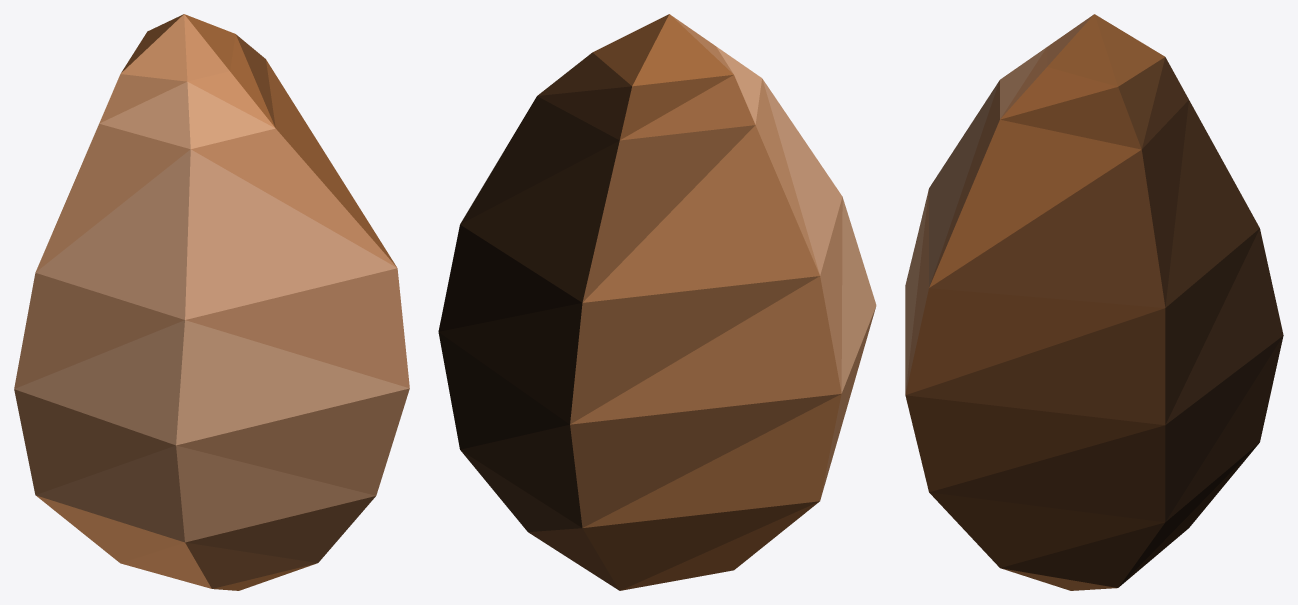
The model's file is egg.obj.
The picture shows the model from 3 angles, left to right: view 1: azimuth 30°, elevation 25°; view 2: azimuth 150°, elevation 25°; view 3: azimuth 270°, elevation 25°; orthographic projection. The views are drawn at different scales.
Parts seen in each view (by area): view 1: Item Egg 2026-10-08_16-49-26; view 2: Item Egg 2026-10-08_16-49-26; view 3: Item Egg 2026-10-08_16-49-26.
Part boxes in pixels (x1,y1,x2,y2): Item Egg 2026-10-08_16-49-26: (14,14,409,590); Item Egg 2026-10-08_16-49-26: (438,14,876,590); Item Egg 2026-10-08_16-49-26: (905,14,1283,590).
Bounding box in the file's own units: 17 × 26 × 16.
